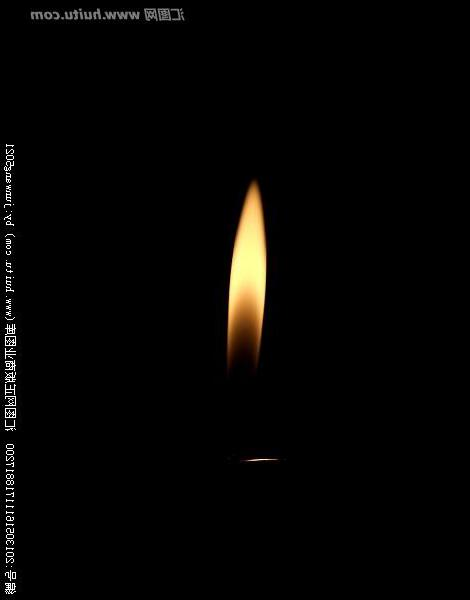fire: (211, 162, 293, 429)
